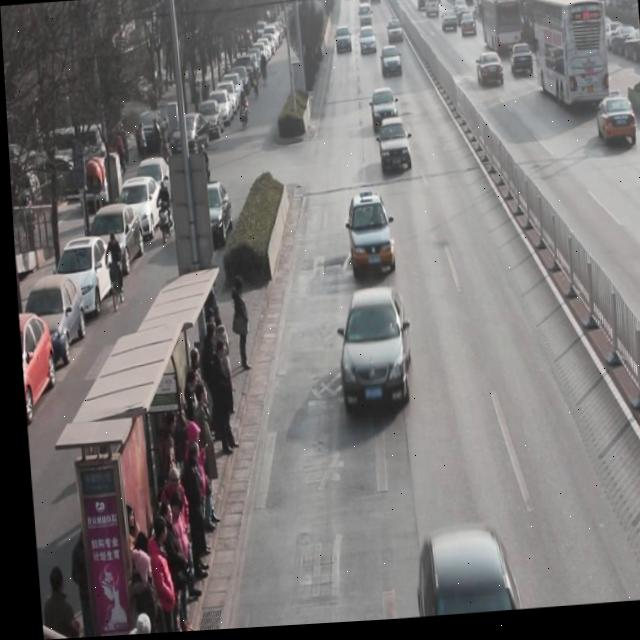car: (407, 526, 518, 621), (329, 288, 409, 415), (342, 196, 393, 282), (594, 103, 635, 155), (375, 121, 409, 178), (369, 91, 398, 140), (475, 56, 503, 94), (508, 47, 533, 84), (379, 49, 402, 83), (358, 28, 376, 59)
van: (530, 0, 608, 122), (477, 0, 524, 61)
